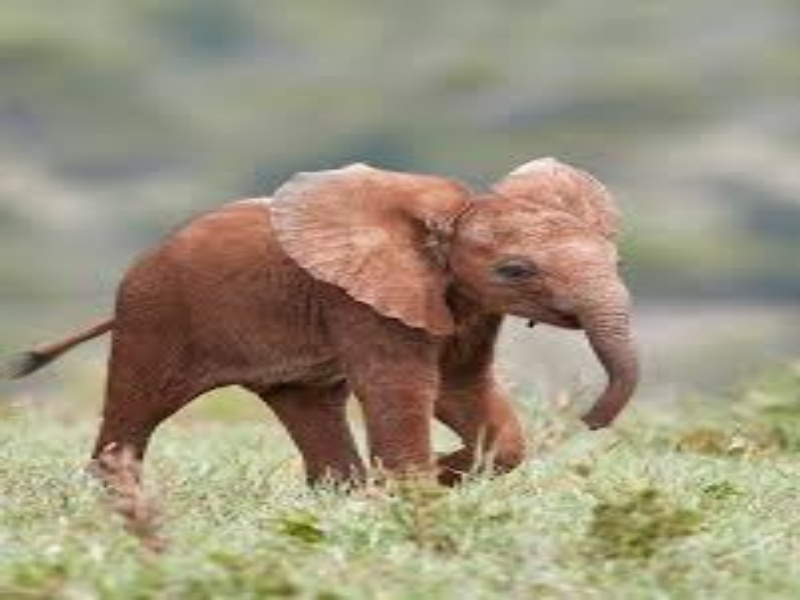elephant: (10, 108, 656, 525)
